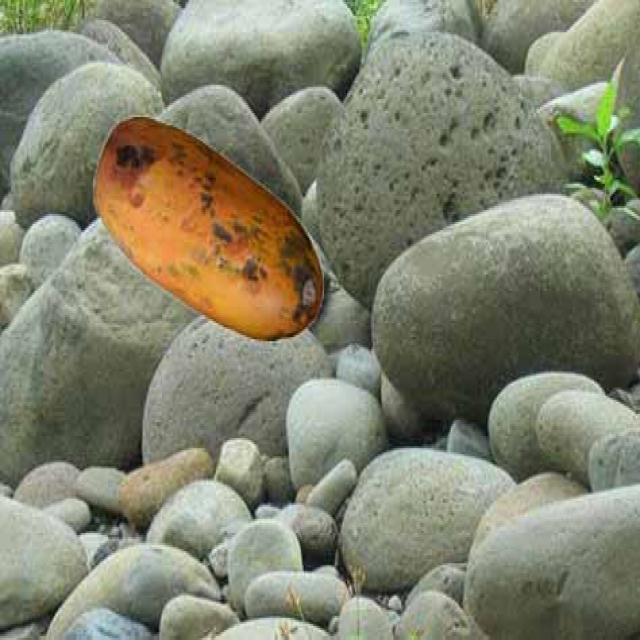Pepaya rippen: (90, 111, 330, 343)
